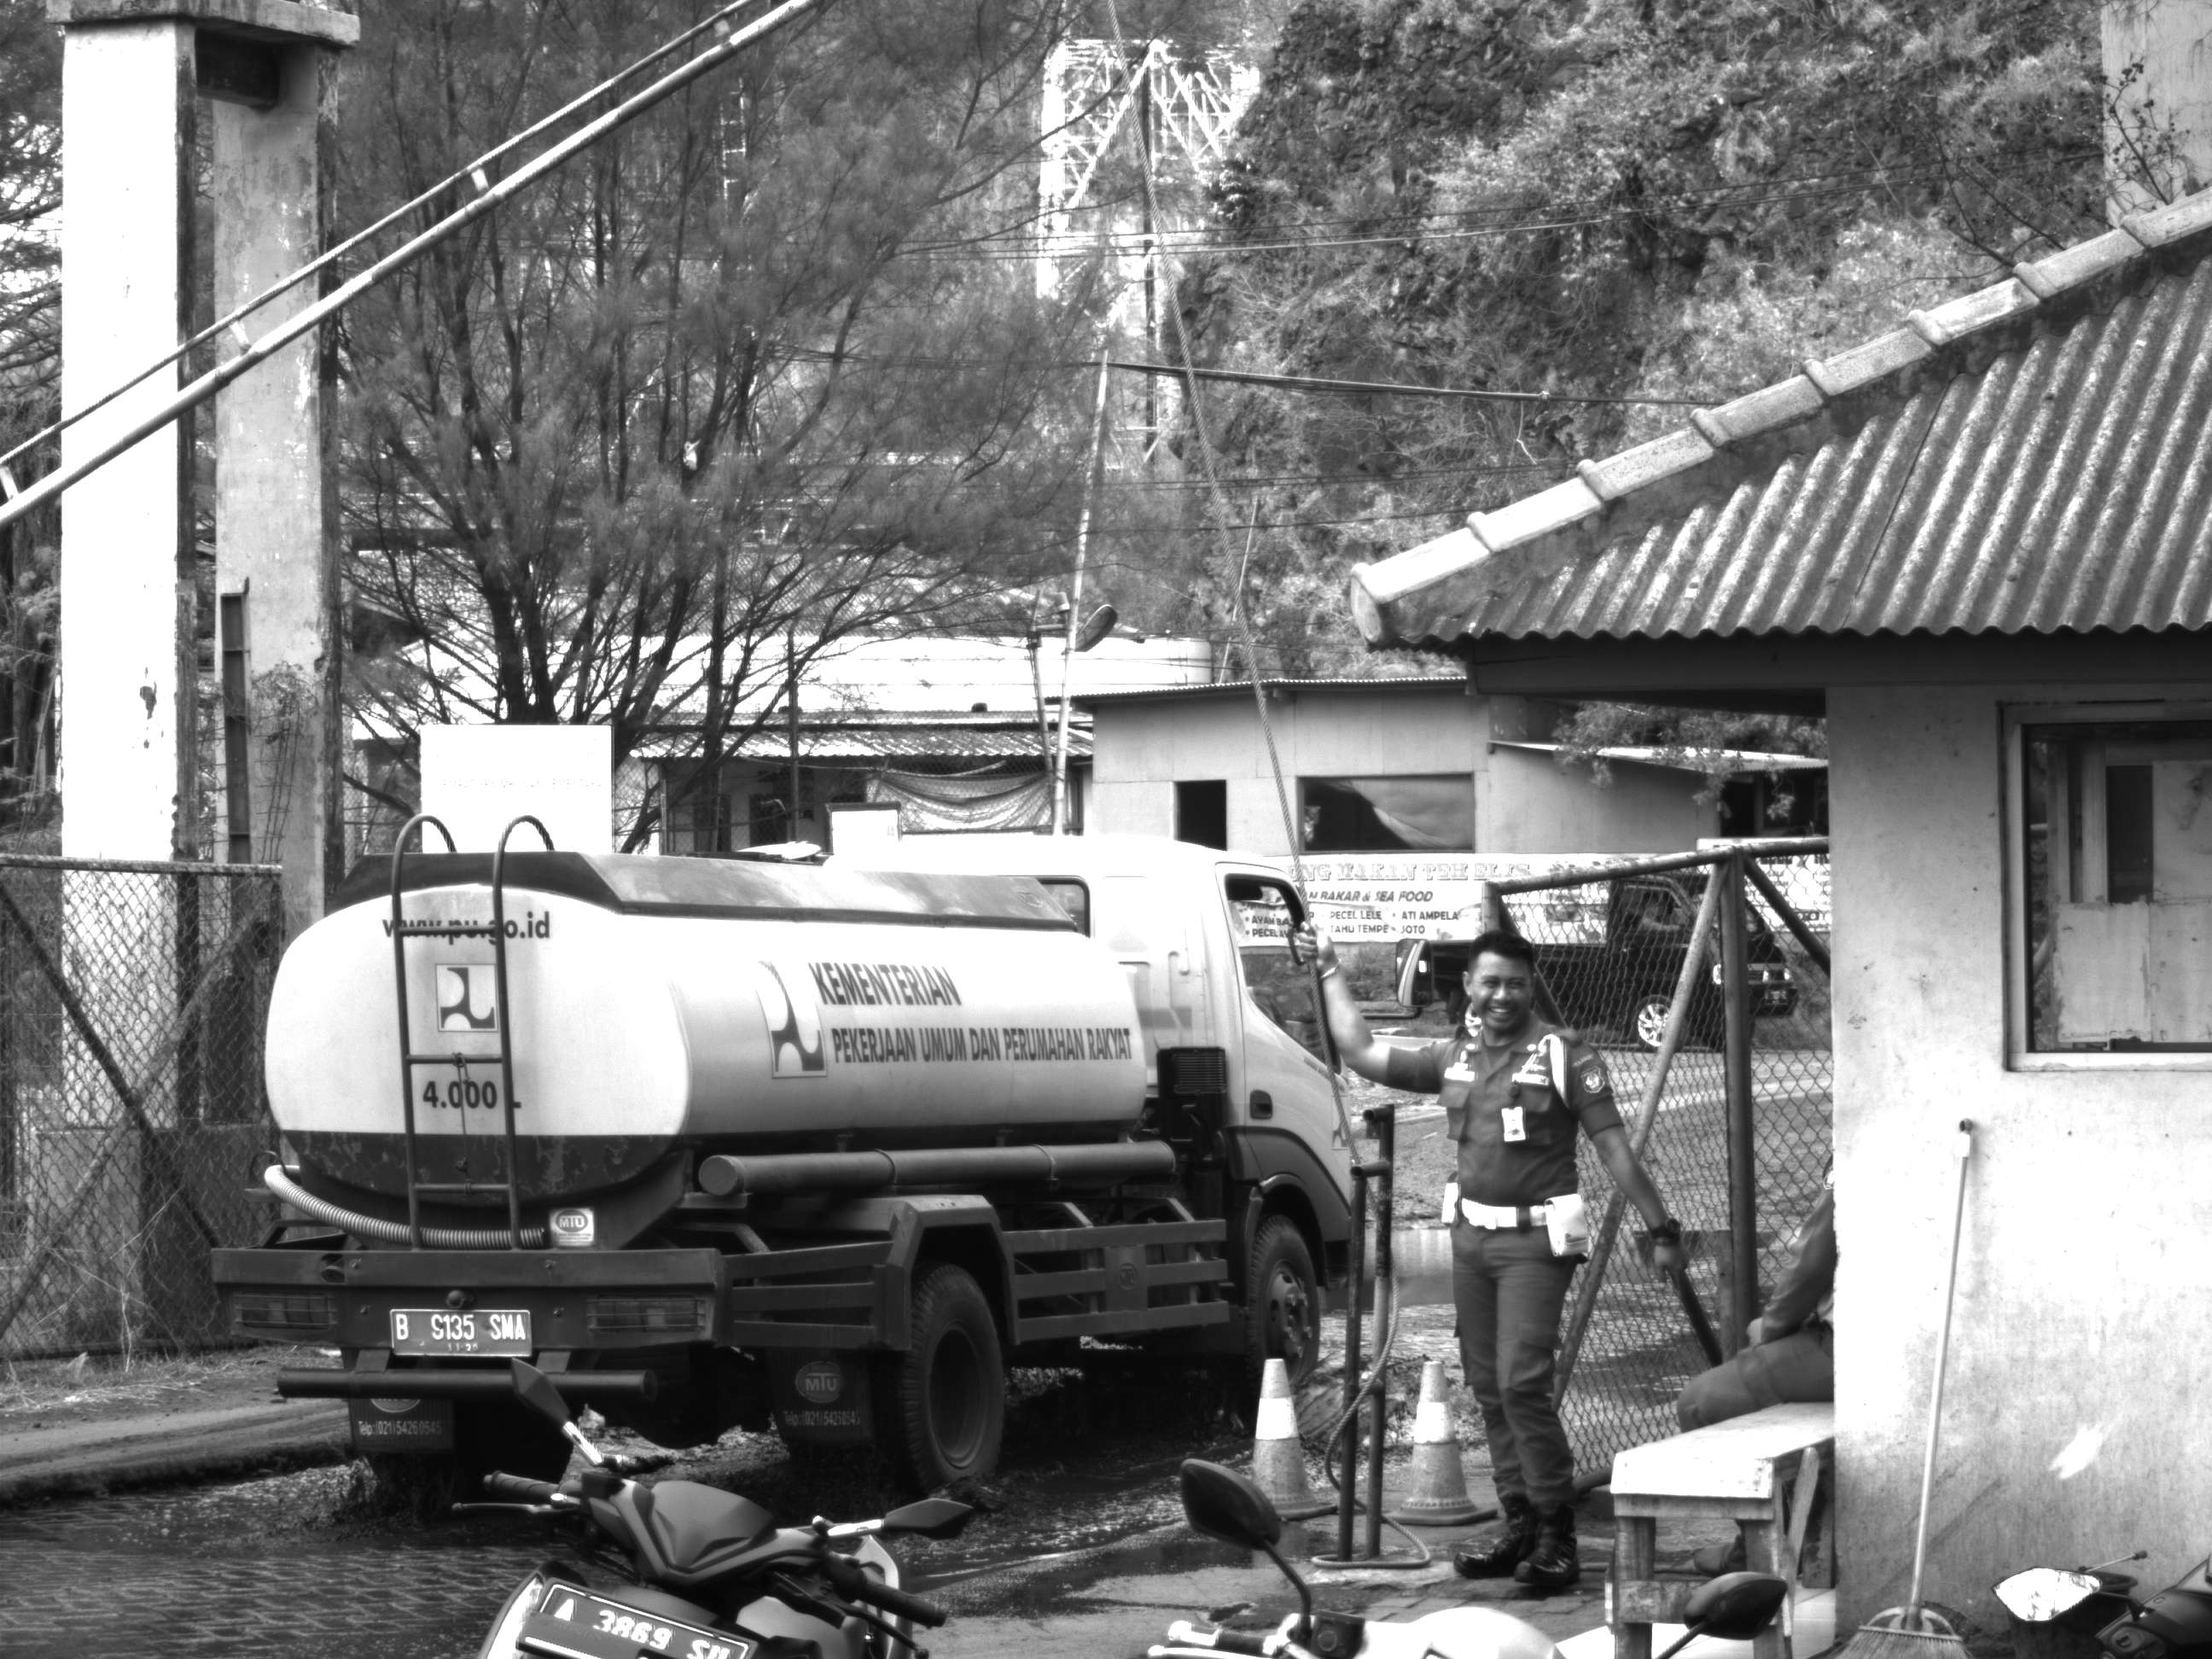day_truck_rear: (203, 814, 1019, 1520)
plate: (502, 1575, 753, 1659), (388, 1308, 533, 1353)
